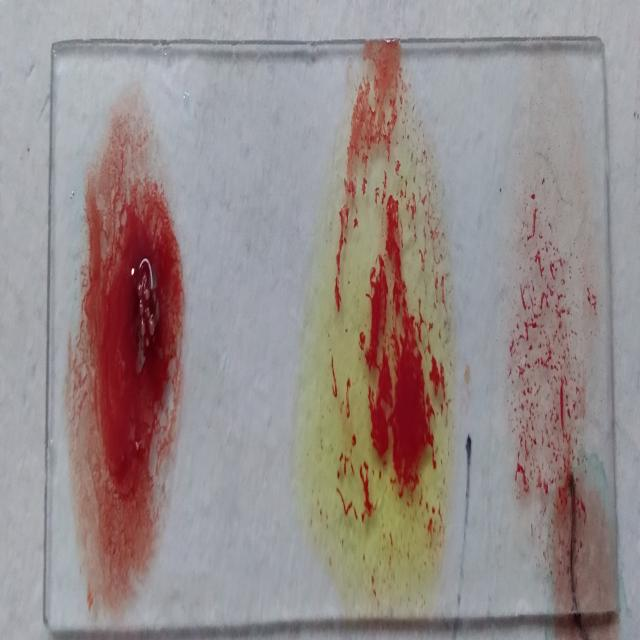A: (70, 84, 175, 592)
B: (320, 53, 459, 590)
D: (512, 66, 594, 508)
